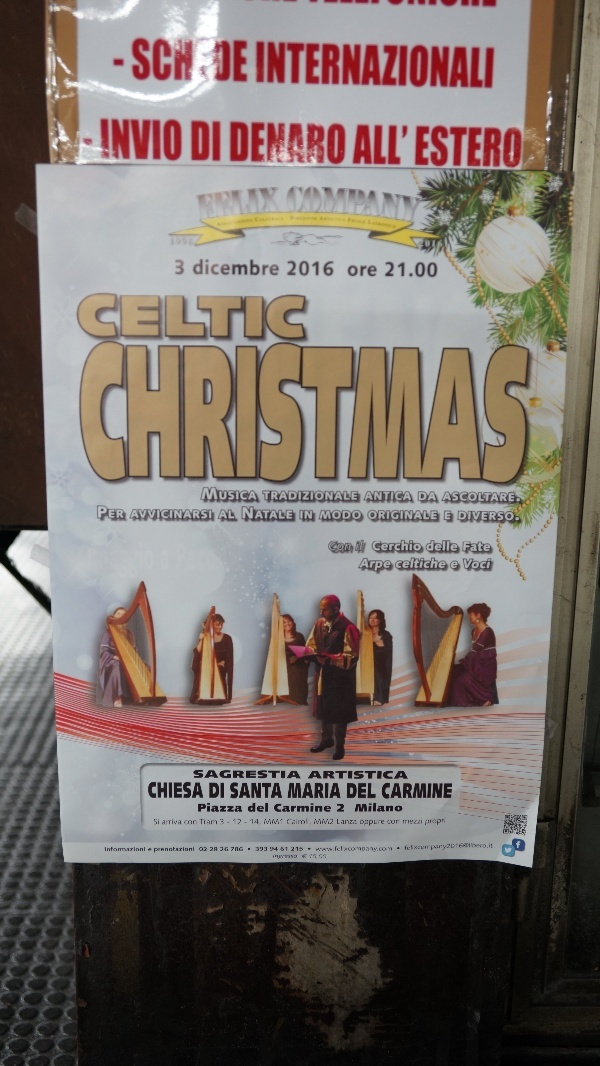text: (81, 336, 96, 496), (97, 336, 112, 496), (113, 336, 128, 496), (129, 336, 144, 496), (145, 336, 160, 496), (161, 336, 176, 496), (177, 336, 192, 496), (193, 336, 208, 496), (209, 336, 224, 496), (225, 336, 240, 496), (241, 336, 256, 496), (257, 336, 272, 496), (273, 336, 288, 496), (289, 336, 304, 496), (305, 336, 320, 496), (321, 336, 336, 496), (337, 336, 352, 496), (353, 336, 368, 496), (369, 336, 384, 496), (385, 336, 400, 496), (401, 336, 416, 496), (417, 336, 432, 496), (433, 336, 448, 496), (449, 336, 464, 496), (465, 336, 480, 496), (481, 336, 496, 496), (497, 336, 512, 496), (513, 336, 528, 496), (481, 40, 497, 94), (257, 40, 272, 94), (273, 40, 288, 94), (289, 40, 304, 94), (305, 40, 320, 94), (321, 40, 336, 94), (337, 40, 352, 94), (353, 40, 368, 94), (369, 40, 384, 94), (385, 40, 400, 94), (401, 40, 416, 94), (417, 40, 432, 94), (433, 40, 448, 94), (449, 40, 464, 94), (465, 40, 480, 94), (529, 336, 534, 496), (81, 294, 96, 346), (97, 294, 112, 346), (113, 294, 128, 346), (129, 294, 144, 346), (145, 294, 160, 346), (161, 294, 176, 346), (177, 294, 192, 346), (193, 294, 208, 346), (209, 294, 224, 346), (225, 294, 240, 346), (241, 294, 256, 346), (257, 294, 272, 346), (273, 294, 288, 346), (289, 294, 304, 346), (369, 122, 384, 170), (385, 122, 400, 170), (417, 124, 432, 171), (433, 124, 448, 171), (449, 124, 464, 171), (465, 124, 480, 171), (481, 124, 496, 171), (497, 124, 512, 171), (145, 37, 160, 83), (161, 37, 176, 83), (177, 37, 192, 83), (289, 180, 304, 226), (305, 180, 320, 226), (321, 180, 336, 226), (337, 180, 352, 226), (353, 180, 368, 226), (369, 180, 384, 226), (385, 180, 400, 226), (401, 180, 416, 226), (193, 119, 208, 164), (241, 121, 256, 166), (257, 121, 272, 166), (273, 121, 288, 166), (289, 121, 304, 166), (305, 121, 320, 166), (321, 121, 336, 166), (113, 117, 128, 161), (129, 117, 144, 161), (145, 117, 160, 161), (161, 117, 176, 161), (209, 183, 224, 227), (225, 183, 240, 227), (241, 183, 256, 227), (257, 183, 272, 227), (225, 41, 240, 84), (195, 183, 208, 227), (132, 37, 144, 83), (209, 119, 221, 164), (100, 117, 112, 161), (358, 122, 368, 170), (213, 41, 224, 84), (513, 124, 523, 171), (230, 121, 240, 166), (273, 183, 283, 227), (337, 121, 346, 166), (401, 122, 409, 170), (193, 256, 208, 280), (209, 256, 224, 280), (225, 256, 240, 280), (241, 256, 256, 280), (257, 256, 272, 280), (241, 41, 249, 84), (417, 180, 424, 226), (289, 259, 304, 279), (305, 259, 320, 279), (241, 781, 256, 801), (257, 781, 272, 801), (161, 781, 176, 801), (177, 781, 192, 801), (401, 261, 416, 279), (417, 261, 432, 279), (305, 782, 320, 800), (321, 782, 336, 800), (210, 782, 224, 801), (321, 259, 334, 279), (209, 485, 224, 502), (225, 485, 240, 502), (241, 485, 256, 502), (257, 505, 272, 522), (273, 505, 288, 522), (369, 556, 384, 573), (353, 783, 368, 800), (385, 783, 400, 800), (401, 783, 416, 800), (417, 783, 432, 800), (433, 783, 448, 800), (386, 261, 400, 279), (290, 782, 304, 800), (353, 263, 368, 279), (369, 507, 384, 523), (385, 507, 400, 523), (401, 507, 416, 523), (417, 507, 432, 523), (385, 538, 400, 554), (401, 538, 416, 554), (449, 489, 464, 505), (465, 489, 480, 505), (481, 489, 496, 505), (497, 489, 512, 505), (242, 505, 256, 522), (97, 505, 112, 520), (273, 488, 288, 503), (289, 488, 304, 503), (305, 488, 320, 503), (321, 488, 336, 503), (337, 488, 352, 503), (369, 488, 384, 503), (385, 488, 400, 503), (337, 539, 352, 554), (401, 557, 416, 572), (417, 557, 432, 572), (177, 117, 182, 161), (149, 781, 160, 801), (113, 55, 128, 69), (433, 557, 447, 572), (433, 539, 448, 553), (273, 781, 283, 801), (145, 508, 160, 521), (161, 508, 176, 521), (177, 508, 192, 521), (193, 508, 208, 521), (209, 802, 224, 815), (225, 802, 240, 815), (418, 490, 432, 503), (113, 505, 125, 520), (321, 509, 336, 521), (337, 509, 352, 521), (401, 488, 413, 503), (465, 510, 480, 522), (481, 510, 496, 522), (497, 510, 512, 522), (465, 541, 480, 553), (465, 558, 480, 570), (231, 781, 240, 801), (321, 770, 336, 782), (337, 770, 352, 782), (353, 770, 368, 782), (369, 770, 384, 782), (385, 770, 400, 782), (417, 842, 432, 854), (433, 842, 448, 854), (449, 842, 464, 854), (465, 842, 480, 854), (373, 538, 384, 554), (273, 256, 280, 280), (357, 539, 368, 554), (209, 769, 224, 780), (225, 769, 240, 780), (241, 769, 256, 780), (257, 769, 272, 780), (273, 769, 288, 780), (289, 803, 304, 814), (305, 803, 320, 814), (305, 294, 308, 346), (194, 769, 208, 780), (225, 818, 240, 828), (241, 818, 256, 828), (337, 804, 352, 814), (321, 844, 336, 854), (337, 844, 352, 854), (353, 844, 368, 854), (369, 844, 384, 854), (369, 263, 378, 279), (257, 802, 269, 814), (481, 842, 493, 854), (225, 507, 236, 520), (133, 508, 144, 521), (289, 769, 302, 780), (275, 803, 288, 814), (449, 539, 459, 553), (177, 259, 185, 276), (385, 556, 393, 573), (369, 783, 377, 800), (263, 488, 272, 503), (289, 818, 304, 827), (369, 804, 384, 813), (385, 804, 400, 813), (481, 558, 492, 570), (83, 137, 96, 147), (451, 560, 464, 570), (198, 802, 208, 815), (433, 817, 446, 827), (513, 489, 521, 505), (369, 819, 385, 827), (321, 803, 332, 814), (481, 541, 491, 553), (161, 847, 176, 855), (177, 847, 192, 855), (406, 842, 416, 854), (353, 509, 362, 521), (329, 539, 336, 554), (337, 819, 352, 826), (113, 847, 128, 854), (129, 847, 144, 854), (305, 508, 313, 521), (321, 818, 334, 826), (403, 818, 416, 826), (357, 804, 368, 813), (517, 841, 528, 850), (210, 846, 224, 853), (274, 854, 288, 861), (248, 802, 256, 814), (401, 770, 409, 782), (291, 846, 304, 853), (163, 819, 176, 826), (433, 261, 438, 279), (353, 488, 359, 503), (347, 783, 352, 800), (513, 510, 520, 522), (313, 770, 320, 782), (433, 507, 438, 523), (417, 538, 422, 554), (273, 819, 283, 827), (385, 844, 393, 854), (433, 490, 439, 503), (257, 846, 268, 853), (458, 510, 464, 522), (337, 782, 341, 800), (388, 819, 400, 825), (310, 854, 320, 861), (427, 539, 432, 553), (204, 485, 208, 502), (289, 505, 293, 522), (364, 556, 368, 573), (449, 783, 453, 800), (348, 263, 352, 279), (200, 819, 208, 827), (209, 819, 217, 827), (231, 846, 240, 853), (289, 854, 298, 861), (426, 817, 432, 827), (148, 848, 160, 853), (265, 819, 272, 827), (361, 819, 368, 827), (255, 40, 256, 94), (305, 818, 311, 827), (154, 818, 160, 827), (79, 294, 80, 346), (209, 508, 213, 521), (300, 508, 304, 521), (257, 485, 260, 502), (185, 820, 192, 827), (105, 847, 112, 854), (505, 847, 512, 854), (200, 847, 208, 853), (417, 818, 423, 826), (193, 37, 194, 83), (191, 119, 192, 164), (397, 557, 400, 572), (281, 846, 288, 852), (321, 854, 327, 861), (220, 818, 224, 828), (257, 818, 261, 828), (155, 847, 160, 855), (316, 844, 320, 854), (221, 507, 224, 520), (273, 846, 278, 853), (353, 819, 358, 826), (177, 819, 182, 826), (445, 510, 448, 521), (449, 510, 452, 521), (446, 489, 448, 505), (316, 818, 320, 826), (220, 846, 224, 853), (193, 820, 197, 827), (241, 802, 243, 815), (225, 846, 228, 853), (305, 853, 308, 860), (287, 259, 288, 279), (401, 804, 403, 813), (175, 259, 176, 276), (383, 783, 384, 800), (193, 847, 195, 855), (241, 846, 243, 853), (270, 846, 272, 853), (463, 541, 464, 553), (463, 558, 464, 570), (287, 818, 288, 827), (303, 853, 304, 860), (145, 847, 146, 854)
